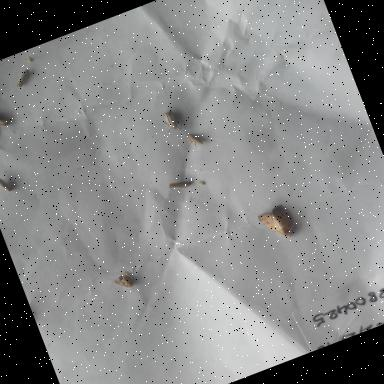pbw: (148, 100, 192, 138), (110, 267, 141, 295), (0, 102, 19, 142), (182, 126, 208, 154), (164, 174, 196, 196), (11, 66, 38, 90), (0, 170, 17, 200)
